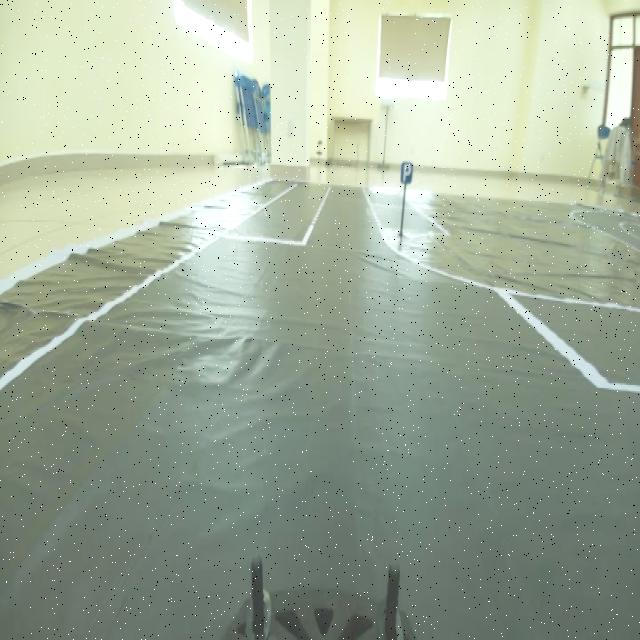parking: (396, 156, 416, 193)
